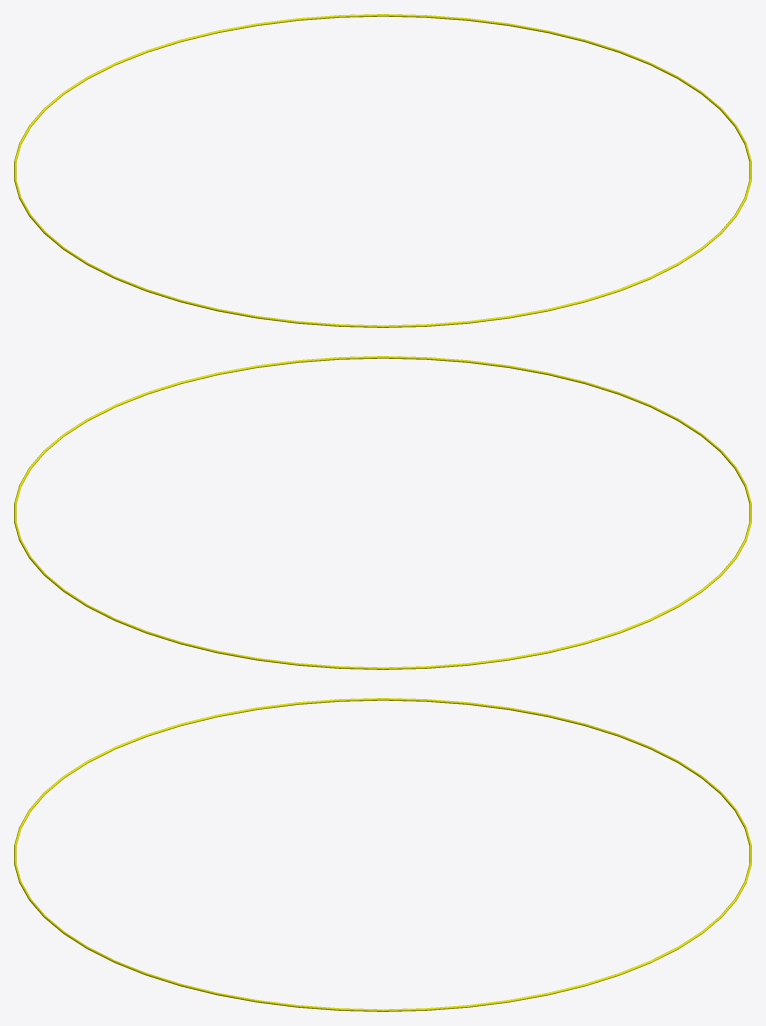
File: MSH_BigSpline.fbx
3 views of the same model, one above another, from view 1: azimuth 30°, elevation 25°; view 2: azimuth 150°, elevation 25°; view 3: azimuth 270°, elevation 25° (orthographic).
Visible parts, largest first — view 1: polySurface83; view 2: polySurface83; view 3: polySurface83.
Part boxes in pixels (<box>): polySurface83: <box>14,14,751,327</box>; polySurface83: <box>14,356,751,669</box>; polySurface83: <box>14,698,751,1011</box>.
Bounding box in the file's own units: 177 × 0.64 × 176.
